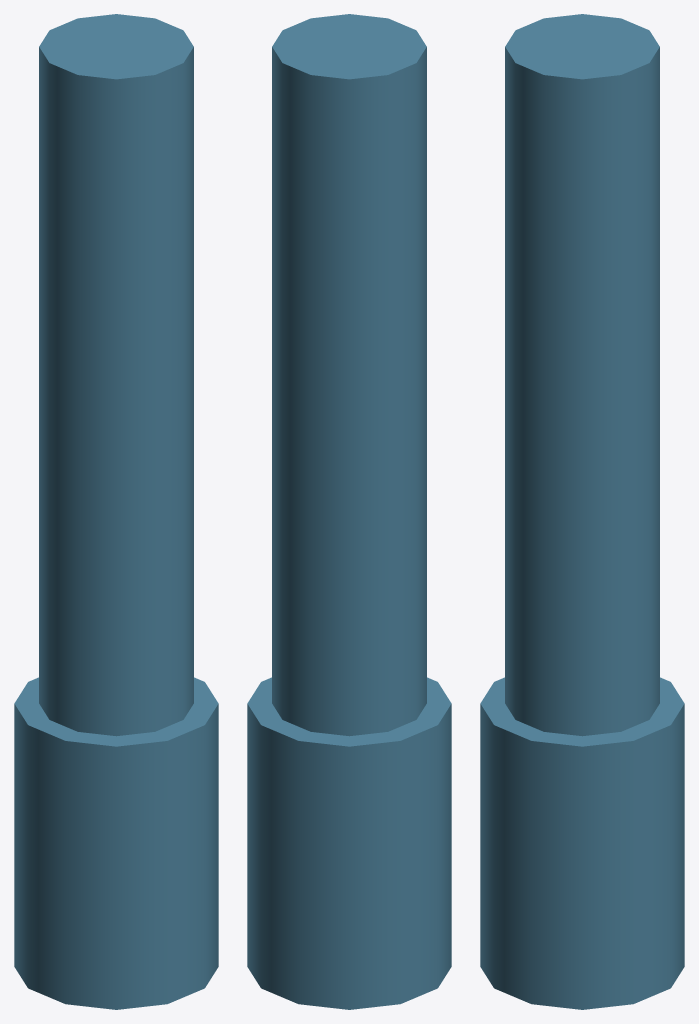
The model's file is GJ_Decor_Pile_01.fbx.
3 views of the same model, side by side, from view 1: azimuth 30°, elevation 25°; view 2: azimuth 150°, elevation 25°; view 3: azimuth 270°, elevation 25° (orthographic).
Parts seen in each view (by area): view 1: GJ_Decor_Pile_01; view 2: GJ_Decor_Pile_01; view 3: GJ_Decor_Pile_01.
Part boxes in pixels (box(x1,y1,x2,y2)): GJ_Decor_Pile_01: box(14, 14, 218, 1009); GJ_Decor_Pile_01: box(247, 14, 451, 1009); GJ_Decor_Pile_01: box(480, 14, 684, 1009).
Bounding box in the file's own units: 5.47 × 27.2 × 5.47.
